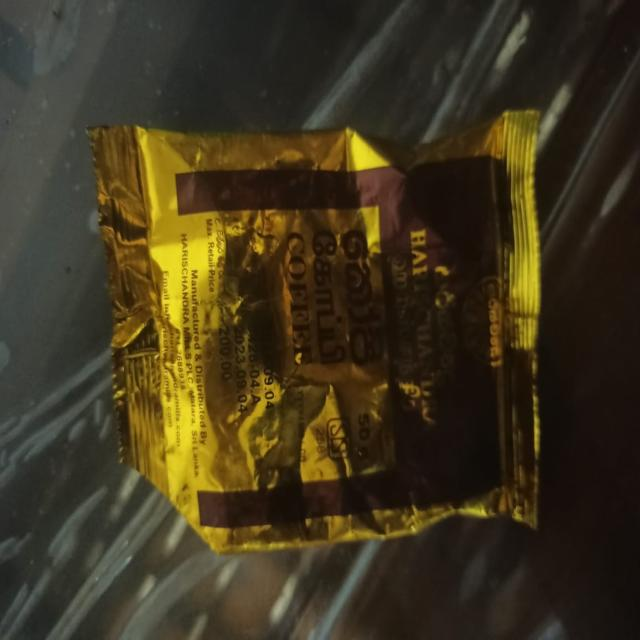Harischandra Coffee: (83, 114, 567, 526)
